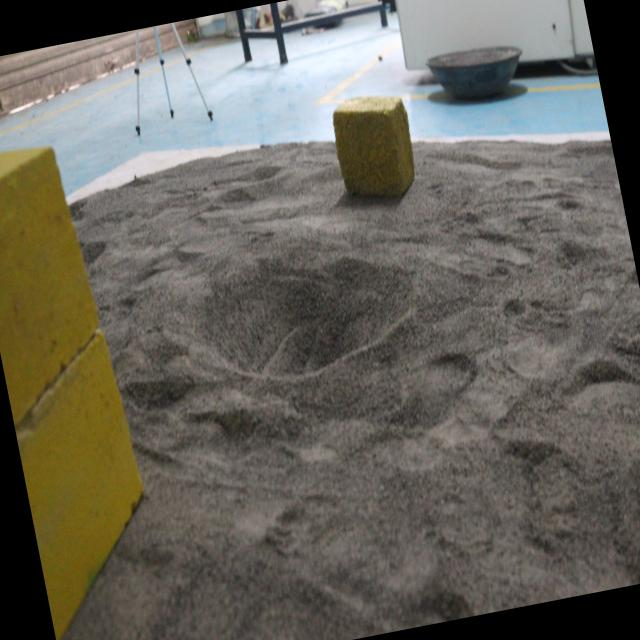box: (0, 127, 178, 640), (324, 87, 424, 213)
crater: (147, 198, 436, 416)
